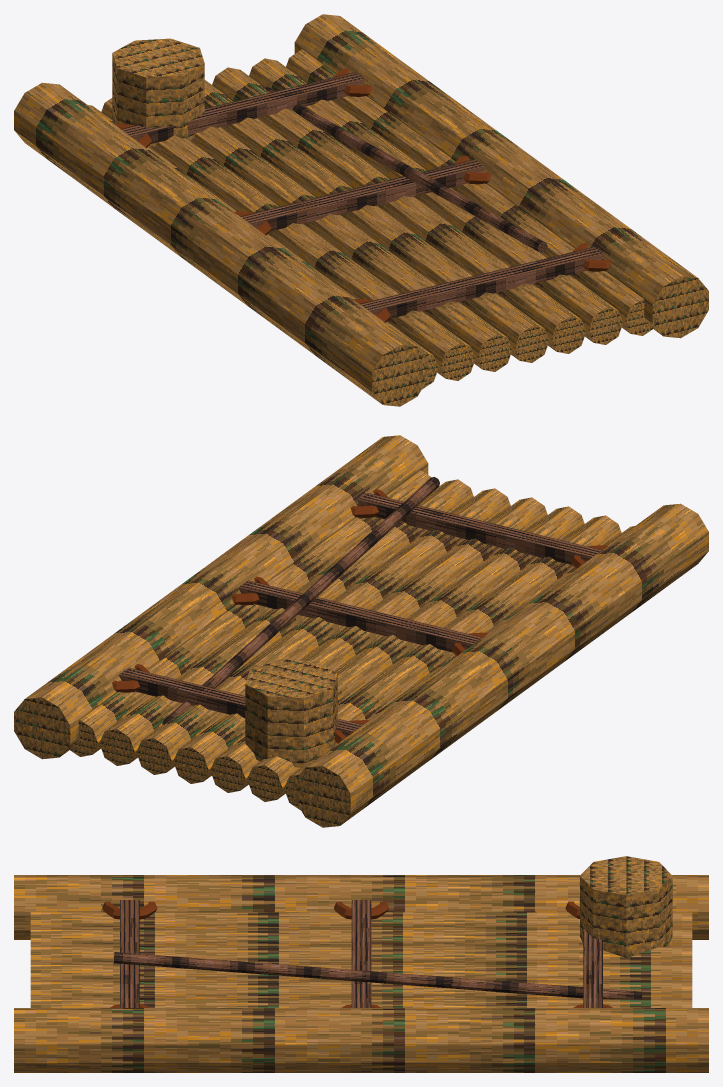
The model's file is balsa.glb.
The picture shows the model from 3 angles, top to bottom: view 1: azimuth 30°, elevation 25°; view 2: azimuth 150°, elevation 25°; view 3: azimuth 270°, elevation 25°; orthographic projection. The views are drawn at different scales.
Parts seen in each view (by area): view 1: Cylinder.007, Cylinder.008, Cylinder.004, Cylinder.003, Cylinder.001, Cylinder.002, Cylinder.005, Cylinder.006, Cylinder.010, Cube, Cube.001, Cube.002 (+2 smaller); view 2: Cylinder.007, Cylinder.008, Cylinder.004, Cylinder.001, Cylinder.003, Cylinder.002, Cylinder.010, Cylinder.005, Cylinder.006, Cube, Cube.001, Cylinder.009 (+2 smaller); view 3: Cylinder.008, Cylinder.007, Cylinder.002, Cylinder.001, Cylinder.004, Cylinder, Cylinder.003, Cylinder.010, Cylinder.009, Cylinder.005, Cube.001, Cube (+3 smaller).
Boxes of the visible parts, x1,y1,x2,y2 form: Cylinder.007: [14, 82, 428, 406]; Cylinder.008: [294, 14, 708, 338]; Cylinder.004: [212, 67, 586, 353]; Cylinder.003: [204, 80, 549, 362]; Cylinder.001: [101, 98, 475, 380]; Cylinder.002: [190, 126, 512, 371]; Cylinder.005: [249, 58, 623, 344]; Cylinder.006: [286, 49, 653, 335]; Cylinder.010: [112, 38, 204, 146]; Cube: [360, 247, 604, 318]; Cube.001: [240, 159, 484, 231]; Cube.002: [121, 72, 365, 144]; Cylinder.007: [294, 503, 708, 827]; Cylinder.008: [14, 435, 428, 759]; Cylinder.004: [136, 488, 510, 774]; Cylinder.001: [247, 515, 621, 801]; Cylinder.003: [173, 497, 547, 783]; Cylinder.002: [210, 506, 584, 792]; Cylinder.010: [245, 659, 337, 767]; Cylinder.005: [99, 479, 473, 765]; Cylinder.006: [69, 470, 431, 756]; Cube: [357, 493, 601, 565]; Cube.001: [238, 580, 482, 652]; Cylinder.009: [162, 477, 439, 724]; Cylinder.008: [14, 1008, 708, 1072]; Cylinder.007: [14, 875, 708, 939]; Cylinder.002: [30, 946, 692, 964]; Cylinder.001: [30, 929, 692, 946]; Cylinder.004: [30, 981, 692, 999]; Cylinder: [30, 912, 692, 929]; Cylinder.003: [30, 964, 692, 981]; Cylinder.010: [580, 856, 672, 957]; Cylinder.009: [113, 952, 642, 999]; Cylinder.005: [30, 999, 692, 1007]; Cube.001: [351, 900, 371, 1007]; Cube: [120, 900, 139, 1007].
Size of the model in its own units: 2.28 by 0.645 by 4.2.
Materials: 3 (2 with a texture image).
